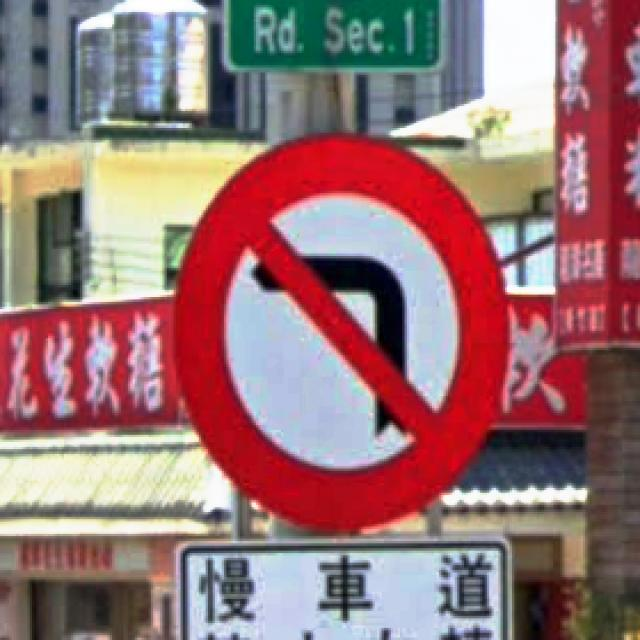noturnleft: (167, 128, 512, 531)
